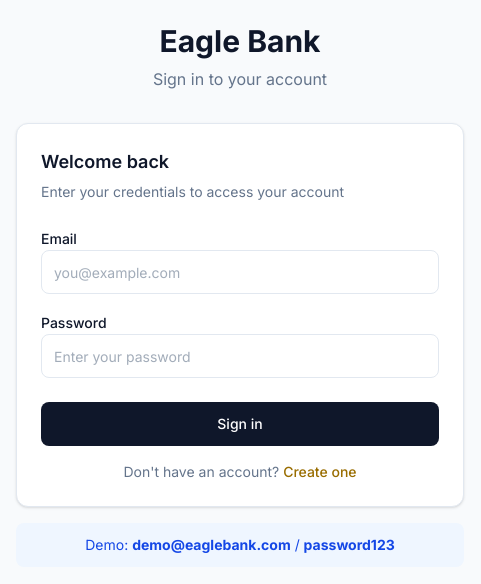
Test: LoginPage › shows validation error for invalid email
The width and height of the screenshot is (481, 584).
Type "notanemail" into the field labelled "Email" at [240, 272], box [41,250,439,294]
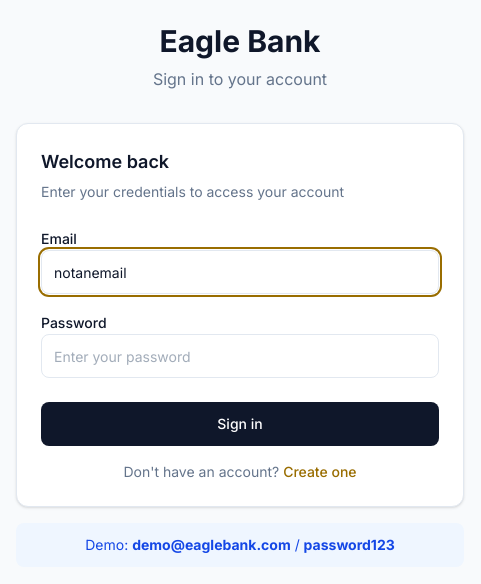
Type "password123" into the password field labelled "Password" at [240, 356], box [41,334,439,378]
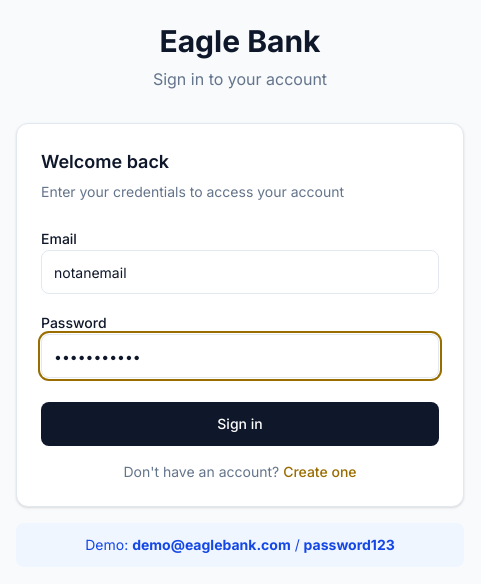
Click the button "Sign in" at [240, 424], box [41,402,439,446]
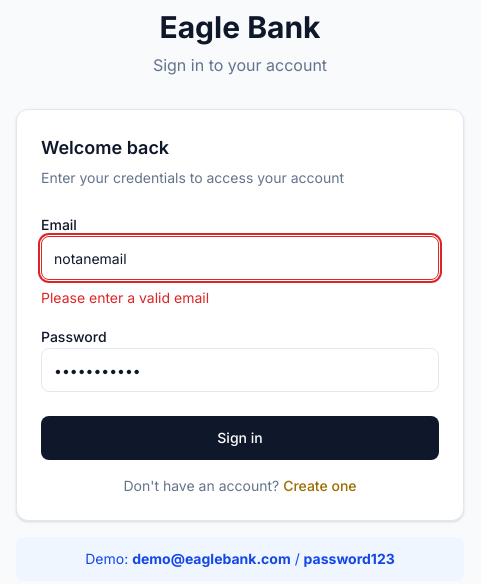
Expected: the text "Please enter a valid email" is shown, [41,289,209,306]
